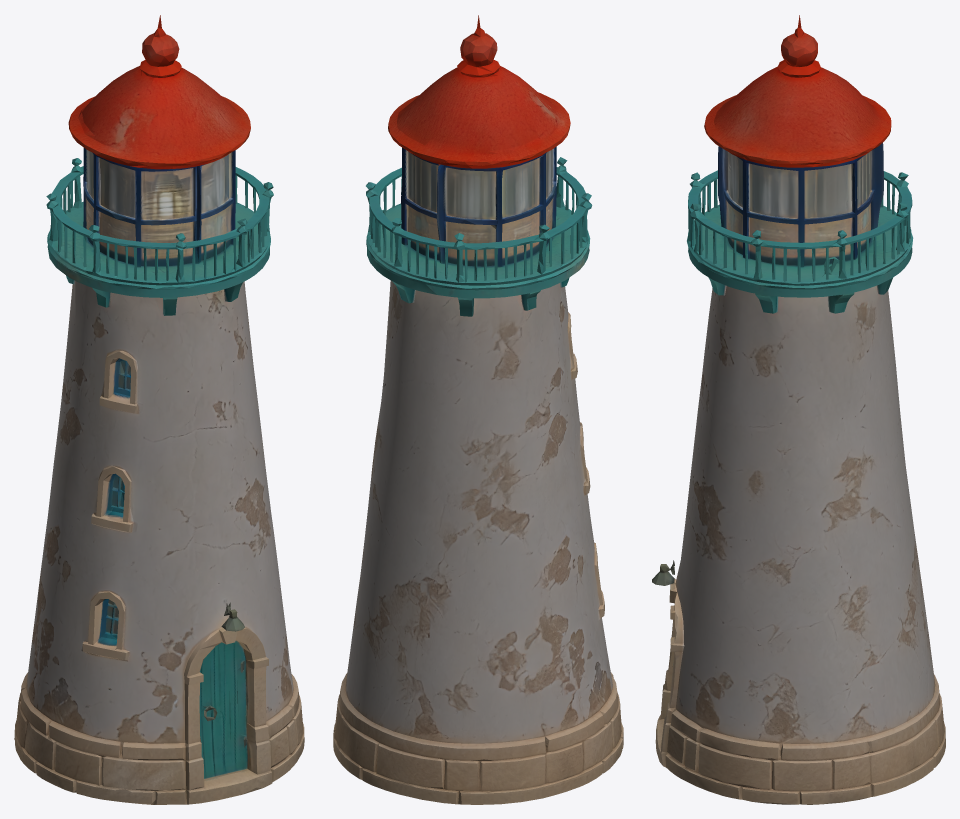
File: base_basic_pbr.glb
3 views of the same model, side by side, from view 1: azimuth 30°, elevation 25°; view 2: azimuth 150°, elevation 25°; view 3: azimuth 270°, elevation 25° (orthographic).
Visible parts, largest first — view 1: model; view 2: model; view 3: model.
Boxes of the visible parts, x1,y1,x2,y2 form: model: [14, 15, 304, 804]; model: [333, 15, 623, 804]; model: [652, 15, 945, 804].
Size of the model in its own units: 0.6767 by 1.89 by 0.688.
Materials: 1 (1 with a texture image).
